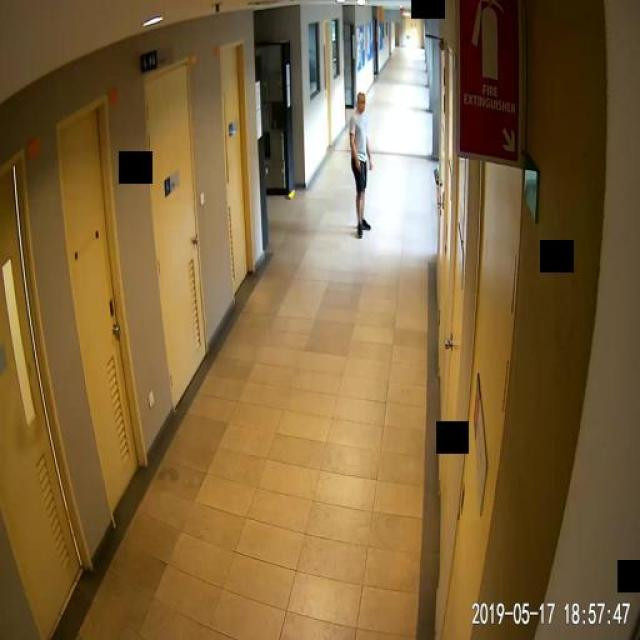gun: (355, 159, 364, 179)
